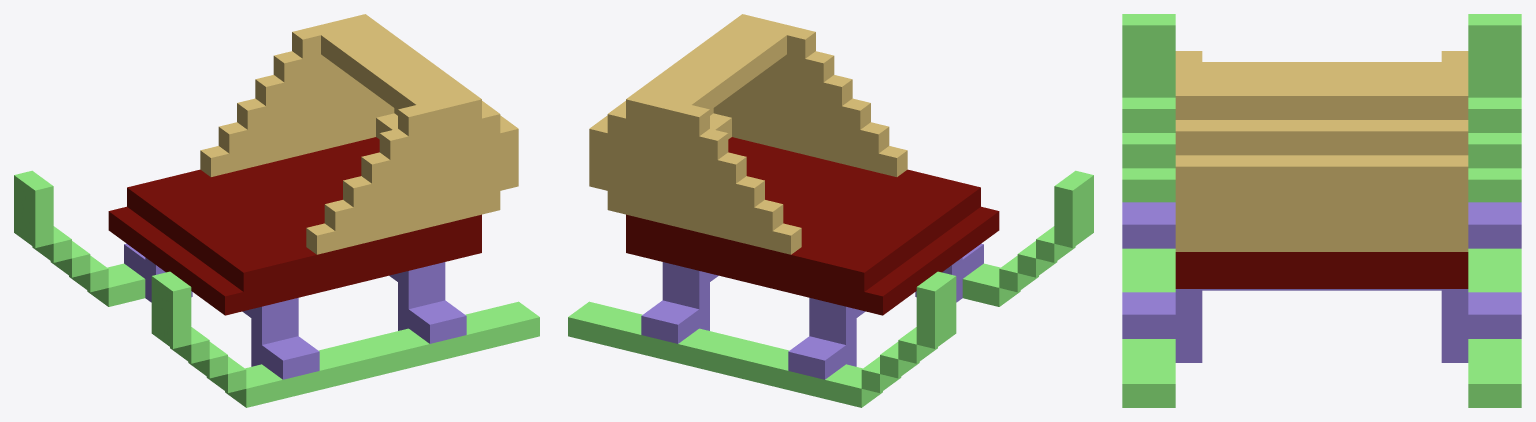
The model's file is Vehicle_27.fbx.
The picture shows the model from 3 angles, left to right: view 1: azimuth 30°, elevation 25°; view 2: azimuth 150°, elevation 25°; view 3: azimuth 270°, elevation 25°; orthographic projection. The views are drawn at different scales.
Visible parts, largest first — view 1: Vehicle_27; view 2: Vehicle_27; view 3: Vehicle_27.
Boxes of the visible parts, box(x1,y1,x2,y2) form: Vehicle_27: box(14, 14, 539, 407); Vehicle_27: box(568, 14, 1093, 407); Vehicle_27: box(1122, 14, 1521, 407).
Bounding box in the file's own units: 20 × 12 × 15.
1 material, 1 textured.
